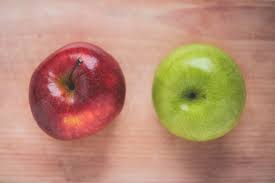apple: (32, 44, 127, 140), (155, 45, 249, 140)
